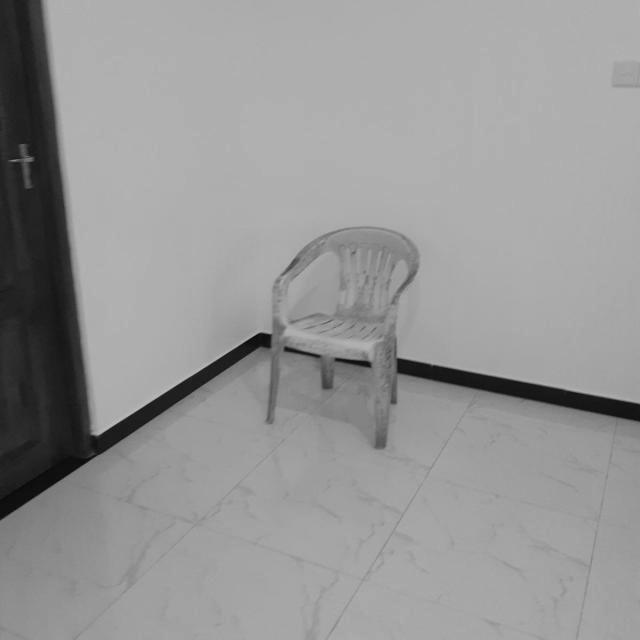chair: (269, 222, 419, 449)
